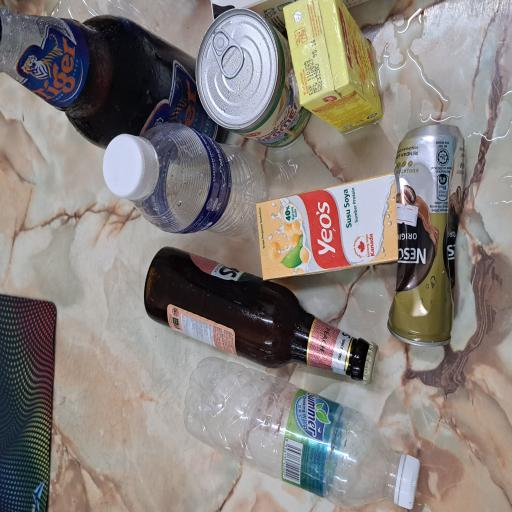can: (272, 260, 378, 416)
drink carton: (173, 341, 254, 512), (282, 376, 383, 512)
glass bottle: (273, 0, 384, 305), (97, 190, 199, 505)
plastic bottle: (0, 243, 117, 512), (208, 177, 292, 355)
plastic bottle cap: (234, 136, 284, 204)
pop tab: (325, 281, 363, 325)
